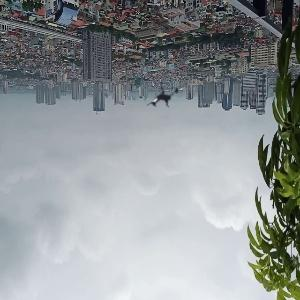drone: (131, 65, 195, 129)
